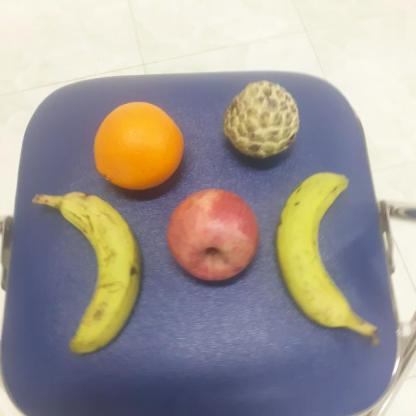annona: (222, 79, 302, 161)
apple: (164, 188, 260, 283)
banana: (52, 189, 140, 354), (274, 172, 363, 334)
orange: (93, 98, 188, 192)
